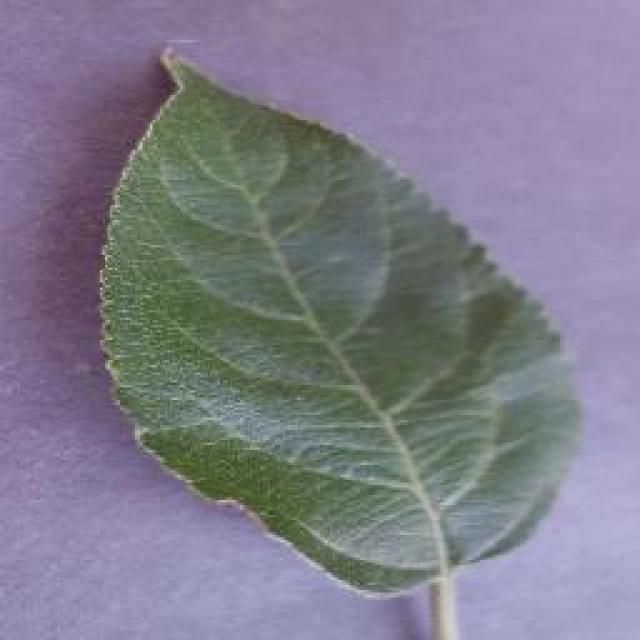apple healthy: (95, 40, 583, 602)
